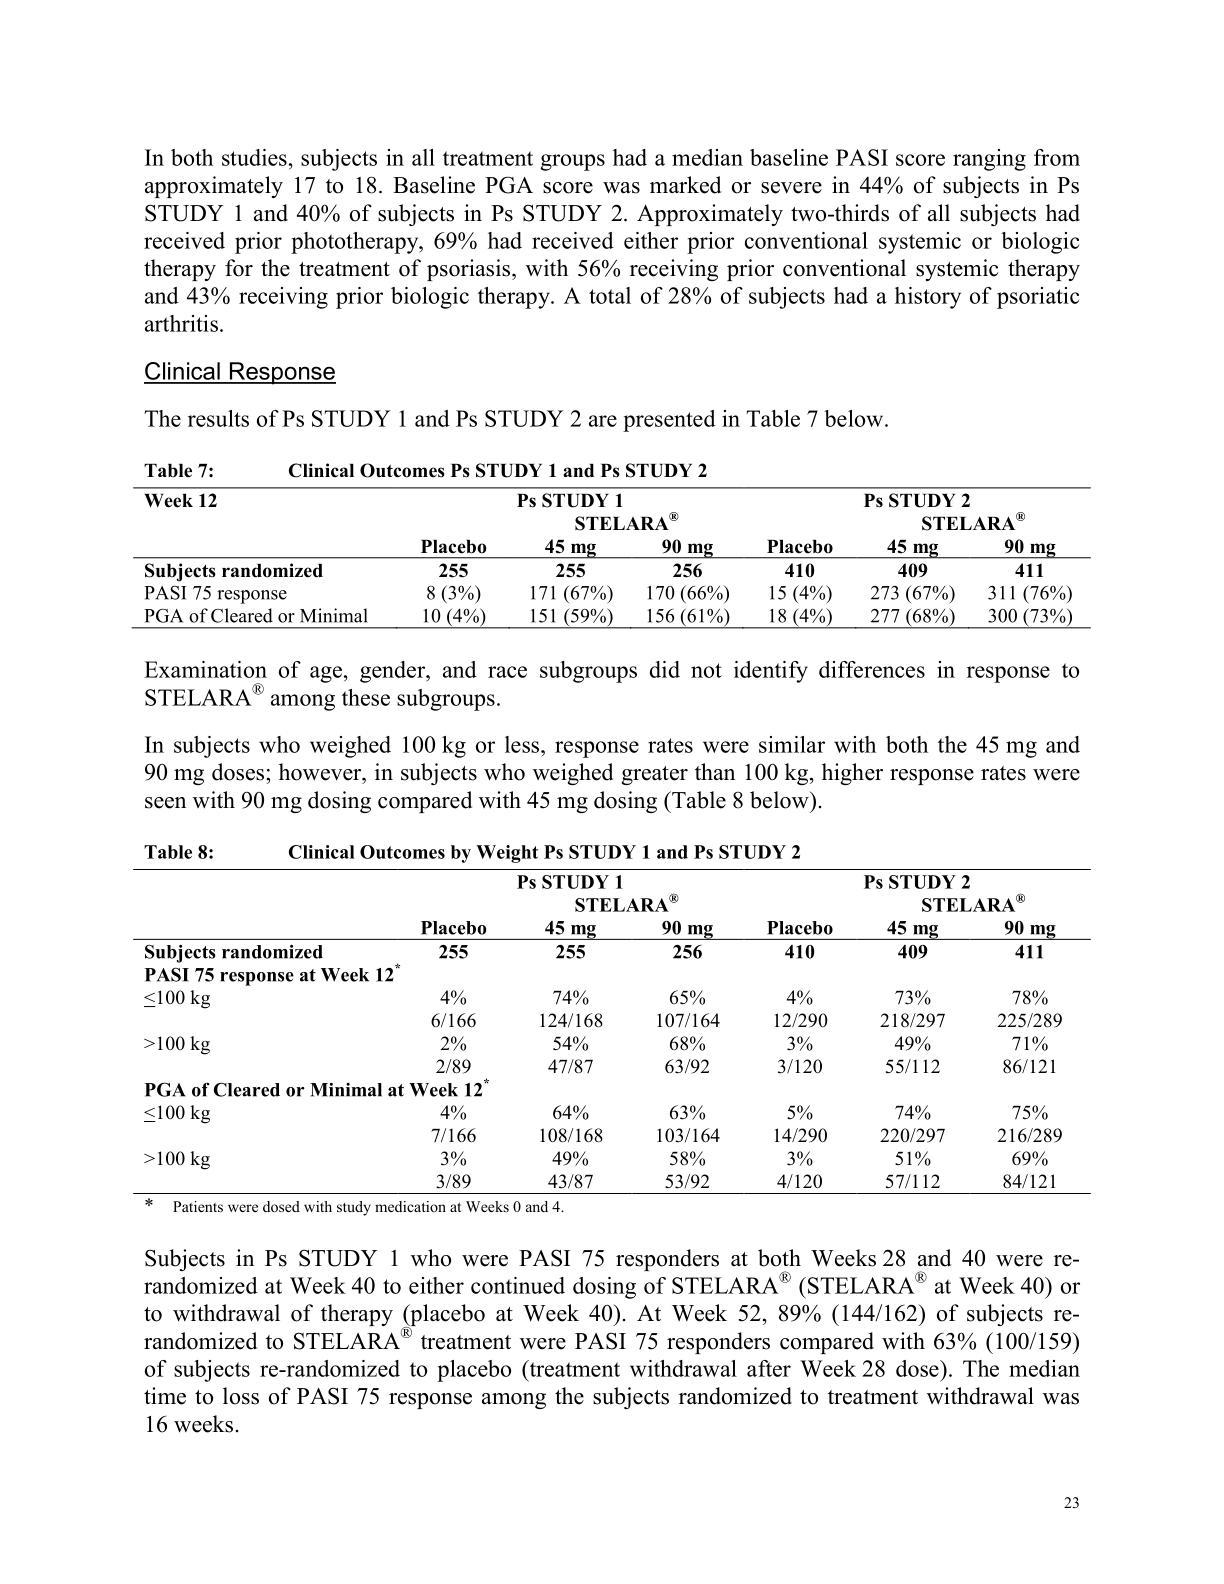partial_lined_merged_cells: (131, 867, 1095, 1196), (131, 483, 1095, 631)
